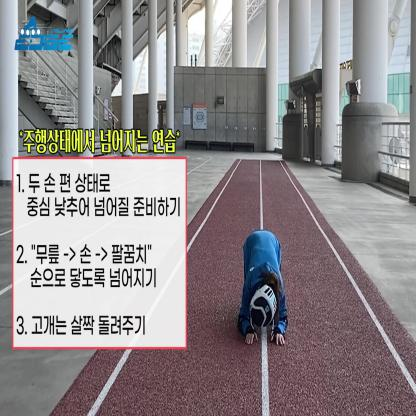Fall_Down: (239, 229, 288, 347)
